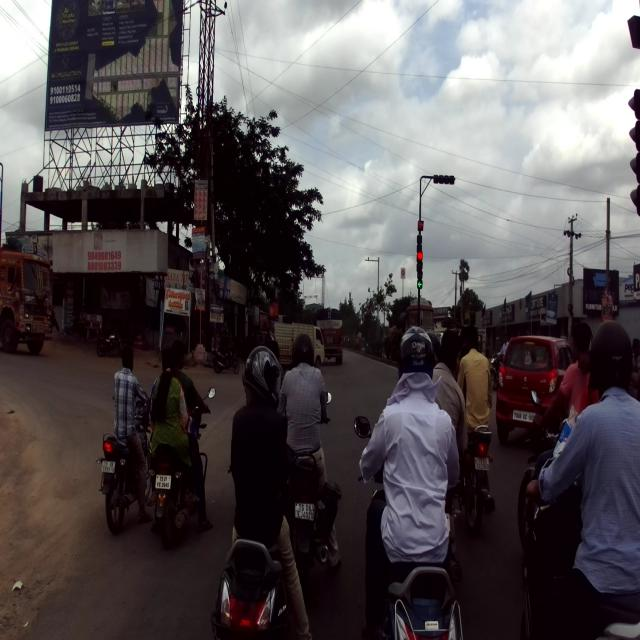car: (494, 334, 572, 446)
motorcycle: (280, 391, 342, 585), (147, 385, 216, 549), (96, 394, 153, 535), (451, 422, 493, 534)
scooter: (352, 415, 465, 639), (210, 441, 312, 636)
